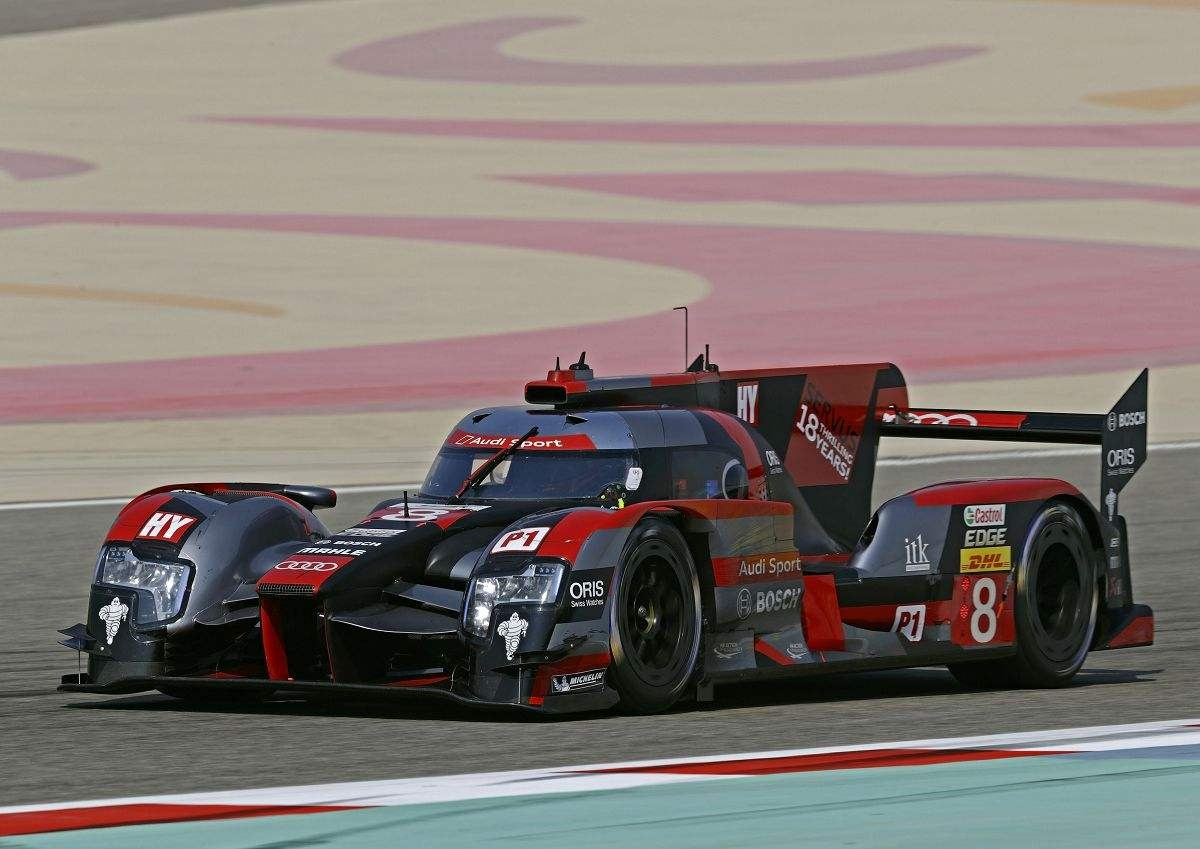racing car: (62, 321, 1152, 705)
